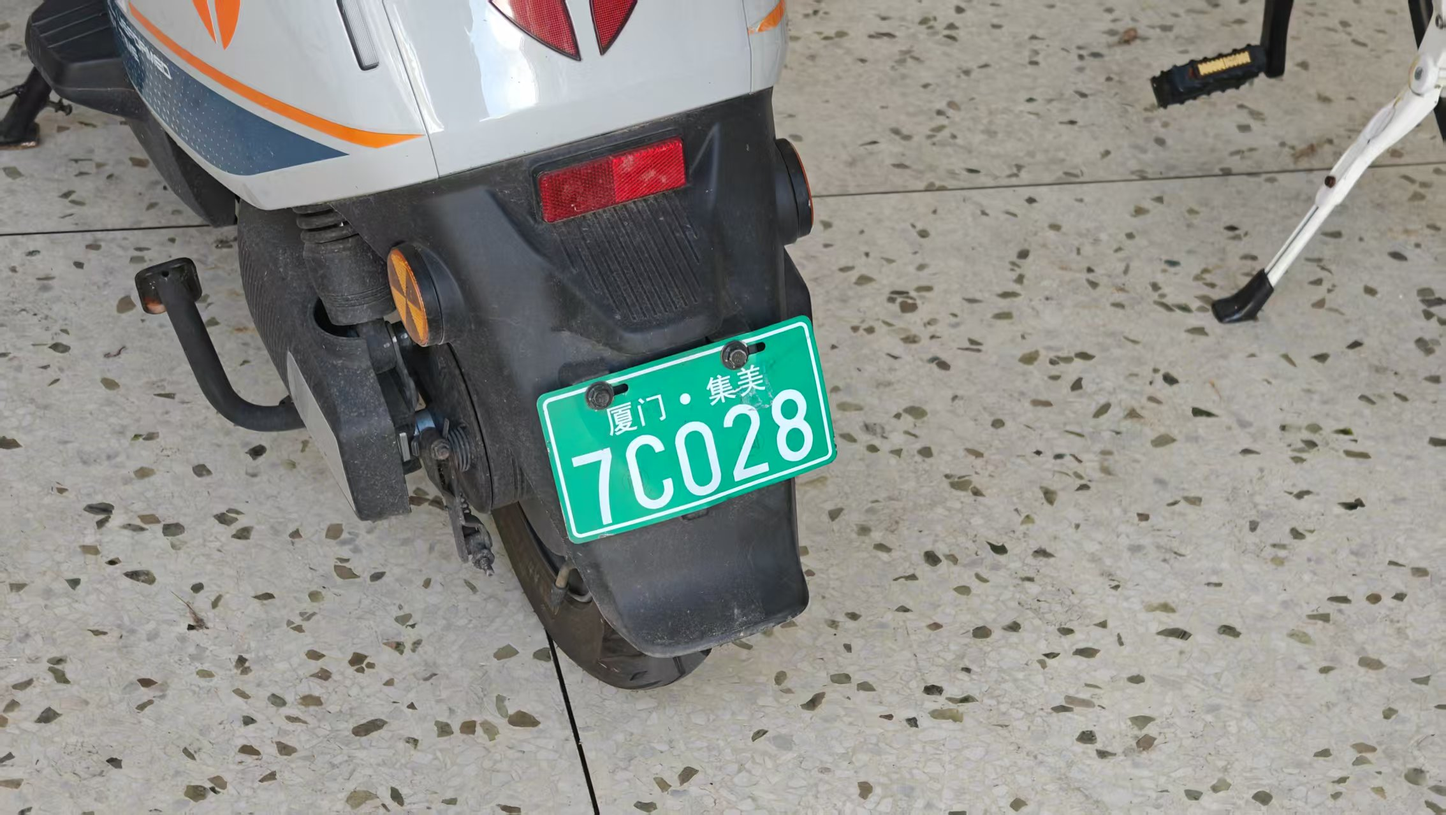plate: (550, 317, 847, 538)
